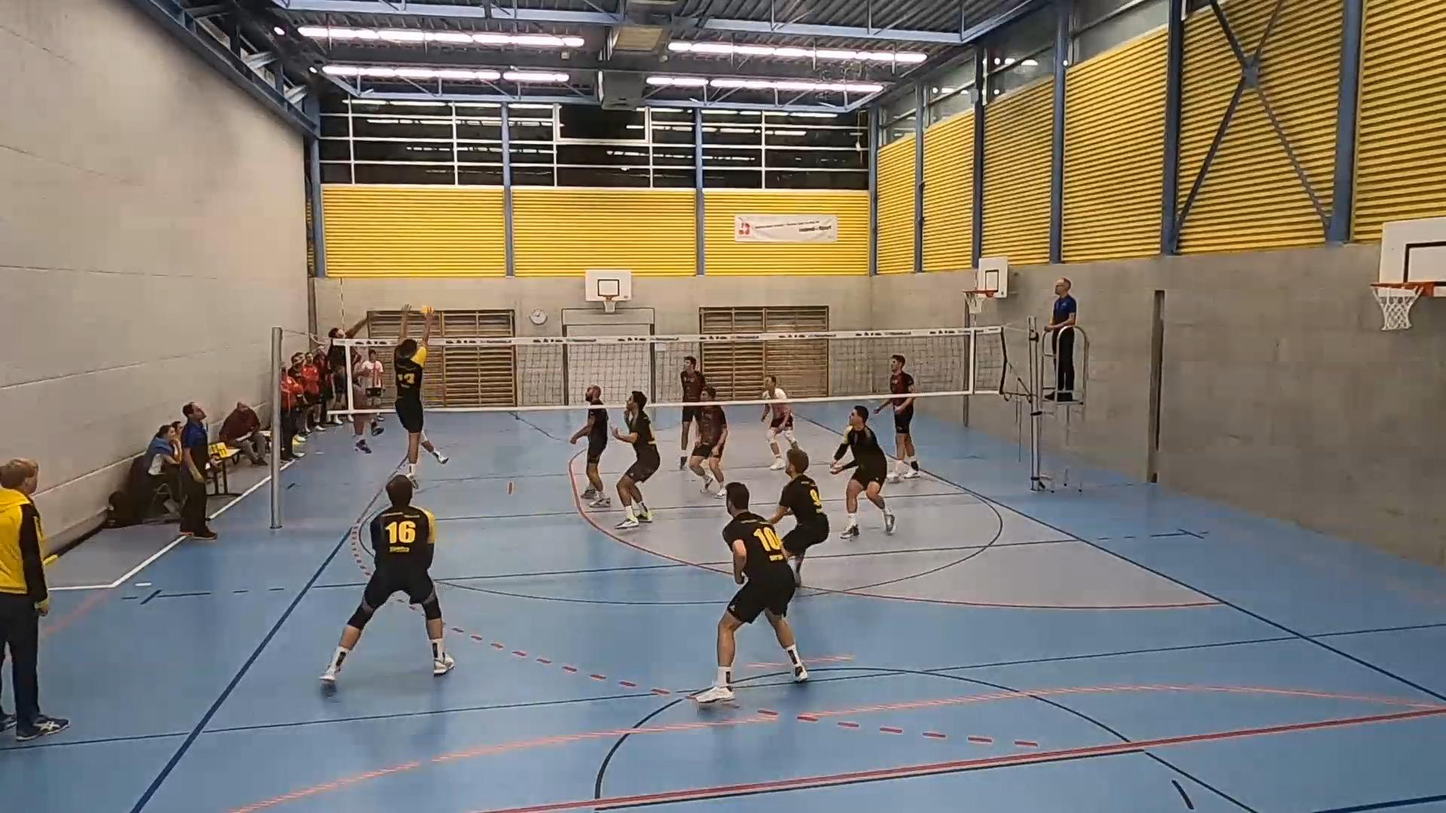Attack: (319, 305, 383, 465)
Block: (386, 313, 446, 488)
Player: (321, 475, 453, 683), (694, 483, 807, 703), (831, 406, 895, 537), (769, 447, 828, 584), (613, 391, 660, 528), (875, 355, 919, 481), (569, 385, 610, 507), (688, 403, 728, 498), (761, 375, 797, 470), (679, 355, 706, 469)
ball: (413, 306, 437, 318)
